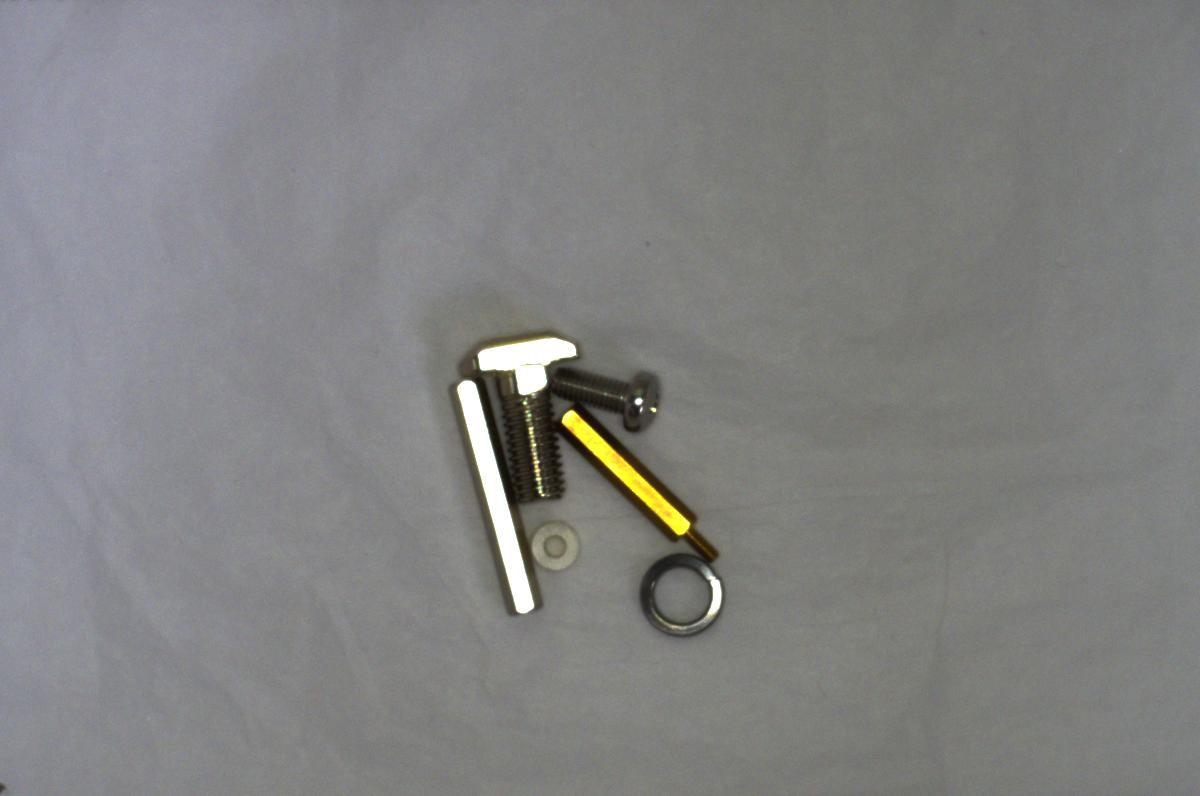Double hexagonal column: (438, 374, 547, 618)
Hexagon pillar: (550, 407, 710, 550)
Plastic cushion pillar: (521, 514, 585, 573)
Round head screw: (544, 358, 667, 438)
Spring washer: (630, 545, 735, 640)
